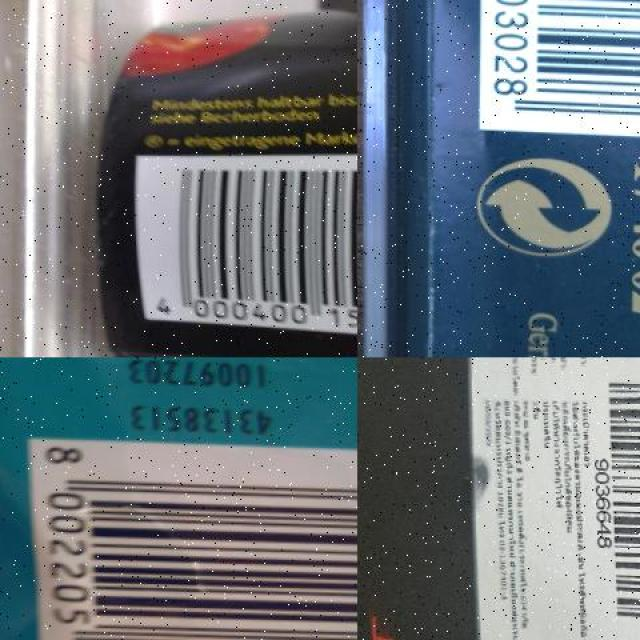Barcode: (21, 430, 357, 640), (130, 138, 358, 342), (454, 0, 640, 138), (585, 361, 640, 639)
